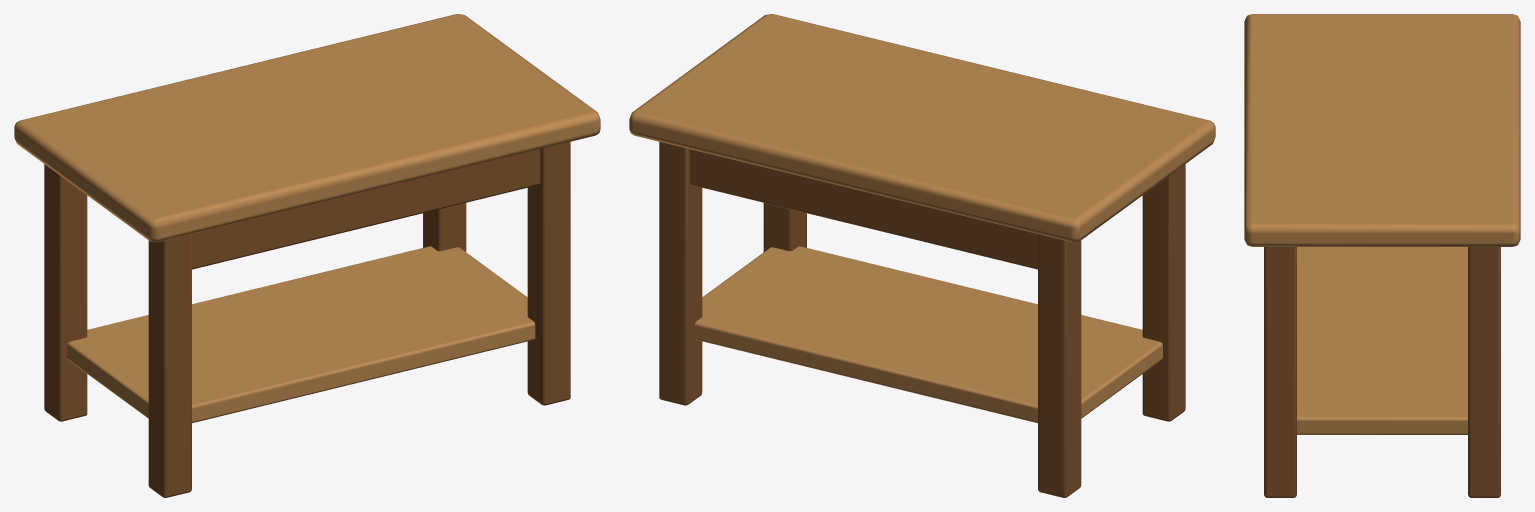
File: PR_Worktable.glb
3 views of the same model, side by side, from view 1: azimuth 30°, elevation 25°; view 2: azimuth 150°, elevation 25°; view 3: azimuth 270°, elevation 25° (orthographic). The views are drawn at different scales.
Parts seen in each view (by area): view 1: PR_Worktable_LOD0; view 2: PR_Worktable_LOD0; view 3: PR_Worktable_LOD0.
Part boxes in pixels (x1,y1,x2,y2): PR_Worktable_LOD0: (14,14,600,497); PR_Worktable_LOD0: (629,14,1215,497); PR_Worktable_LOD0: (1244,14,1520,497).
Size of the model in its own units: 1.55 by 0.95 by 0.84.
Materials: 1 (1 with a texture image).
